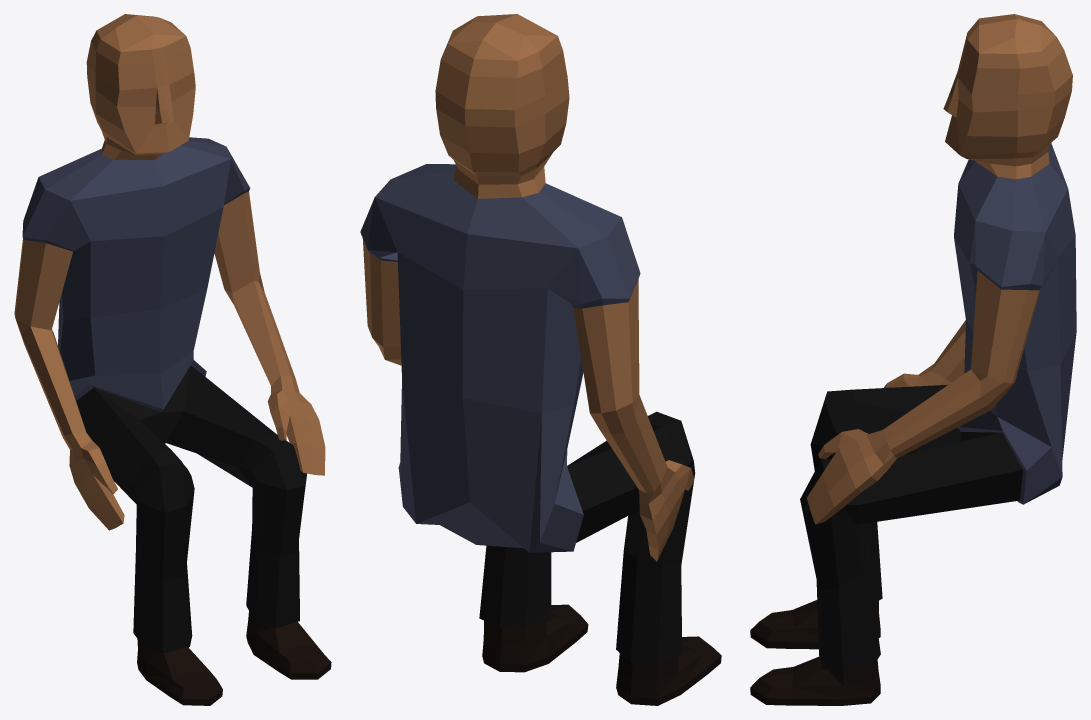
Rendered from Male_Sitting.obj.
3 views of the same model, side by side, from view 1: azimuth 30°, elevation 25°; view 2: azimuth 150°, elevation 25°; view 3: azimuth 270°, elevation 25° (orthographic). The views are drawn at different scales.
Parts seen in each view (by area): view 1: Male_Sitting_Human_CylinderMesh.004; view 2: Male_Sitting_Human_CylinderMesh.004; view 3: Male_Sitting_Human_CylinderMesh.004.
Part boxes in pixels (box(x1,y1,x2,y2)): Male_Sitting_Human_CylinderMesh.004: box(14, 14, 331, 705); Male_Sitting_Human_CylinderMesh.004: box(360, 14, 721, 705); Male_Sitting_Human_CylinderMesh.004: box(750, 14, 1076, 705).
Size of the model in its own units: 1.25 by 3.1 by 1.42.
